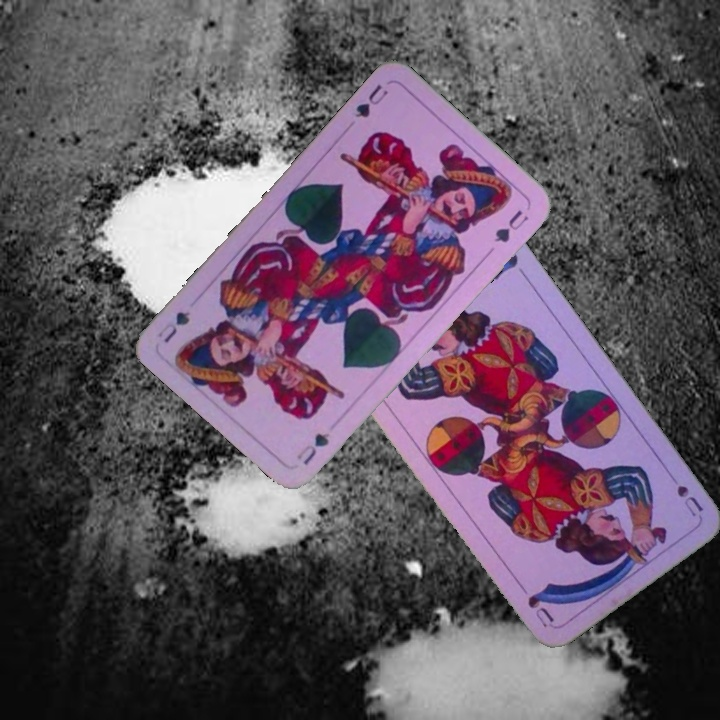GU: (350, 80, 391, 121), (292, 429, 332, 468)
SU: (663, 466, 706, 520)
